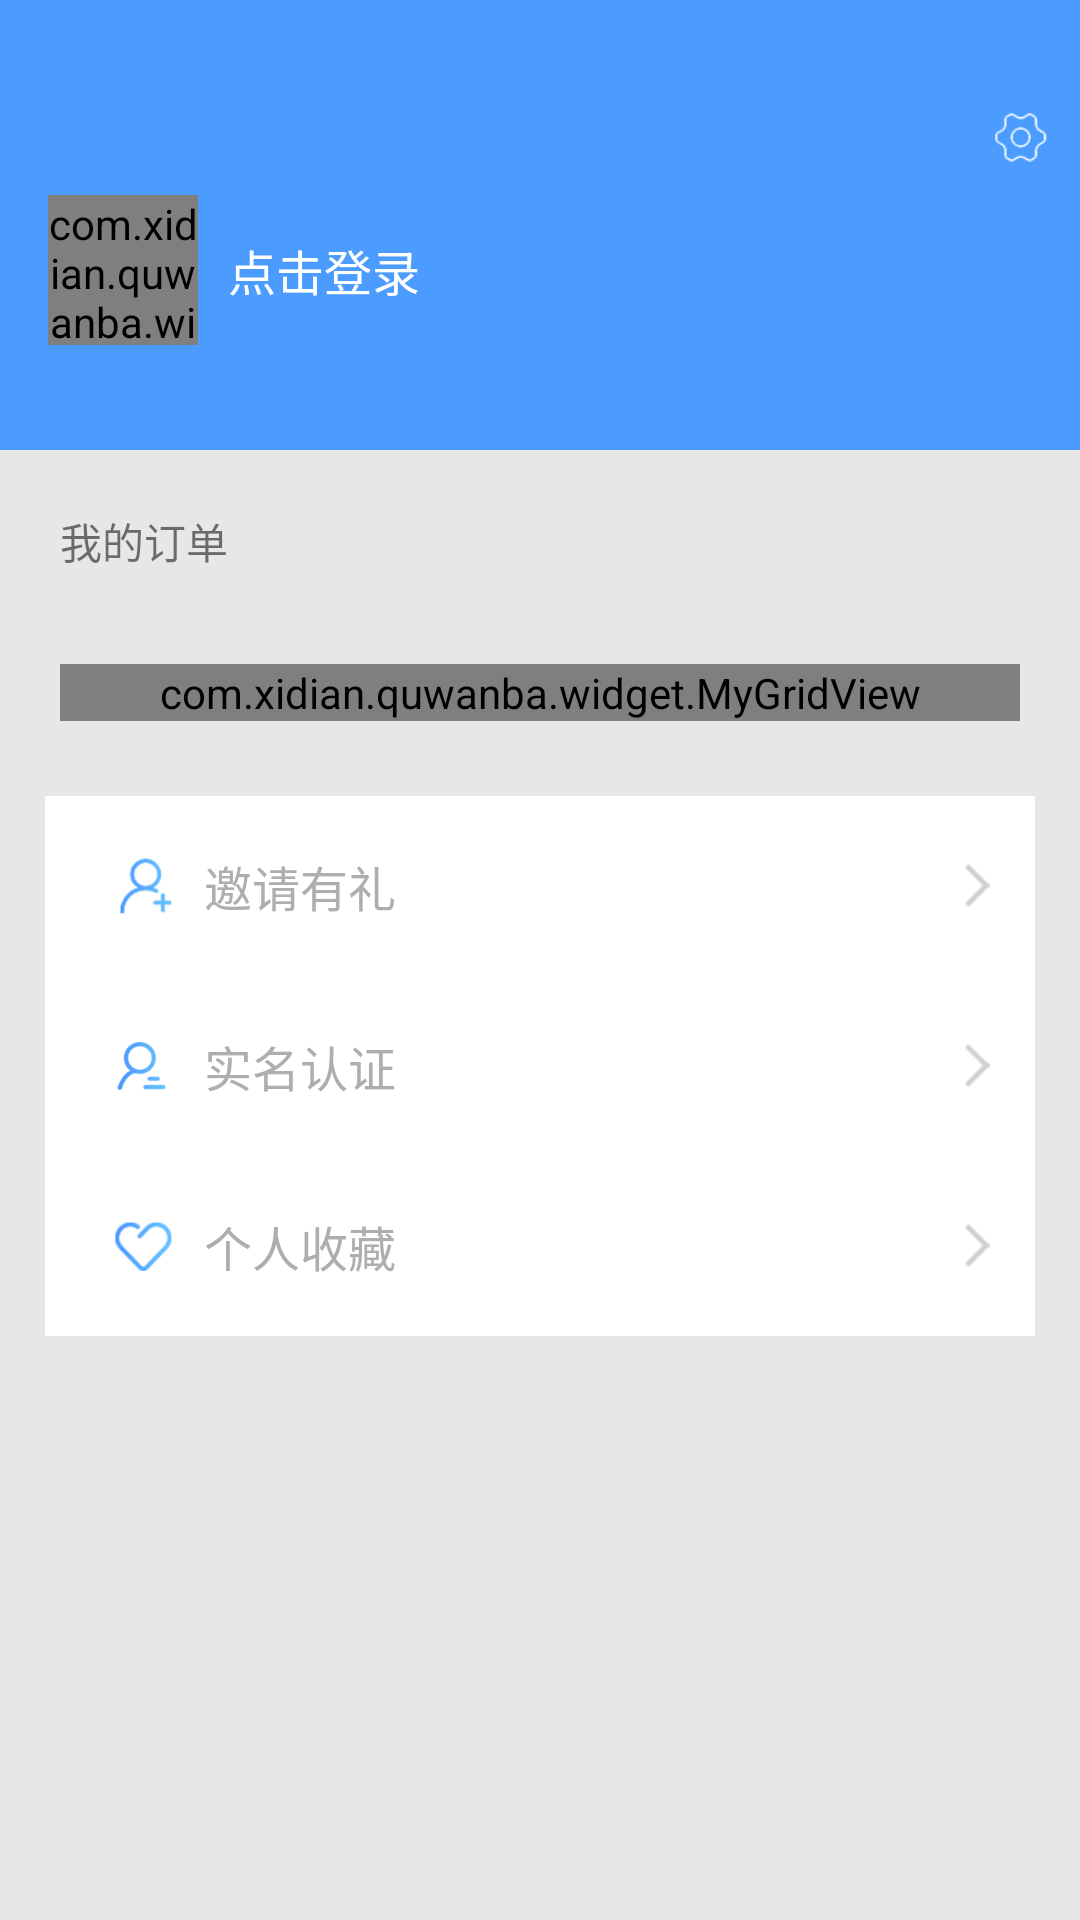

Screen size 1080px×1920px. Icon name, then its box in pixels as BBox(x1, y1, x2, y2):
favior: BBox(115, 1222, 172, 1271)
setting: BBox(995, 113, 1047, 162)
